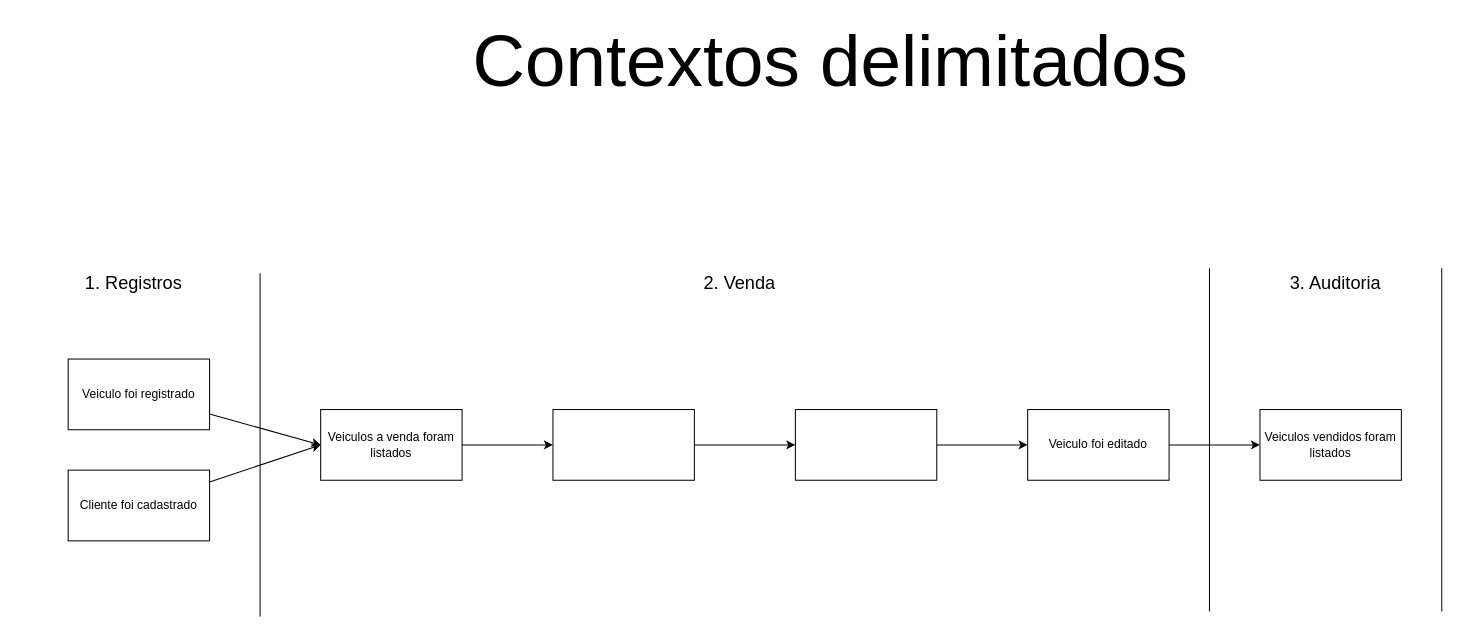
Some shapes in this 1469 by 635 pixel diagram are drawn without their labels. Each missing label, with the box of its shape:
Cliente comprou veiculo: (552, 409, 694, 480)
Venda foi gerada: (794, 409, 937, 480)
